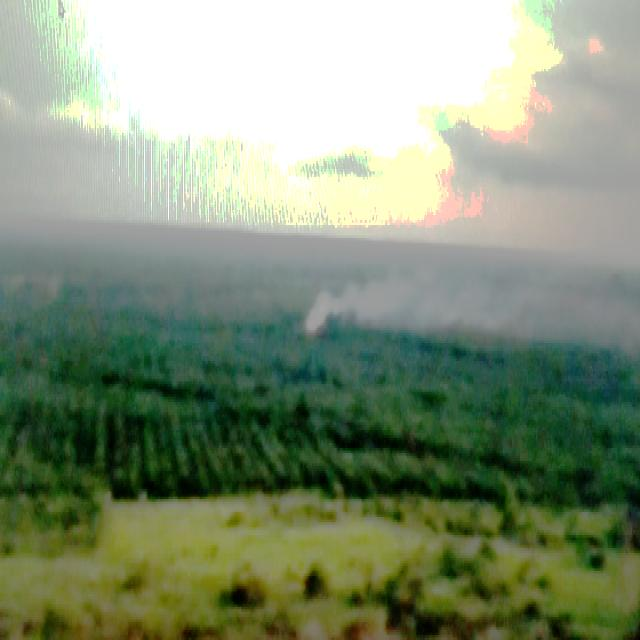asap: (300, 265, 416, 349)
